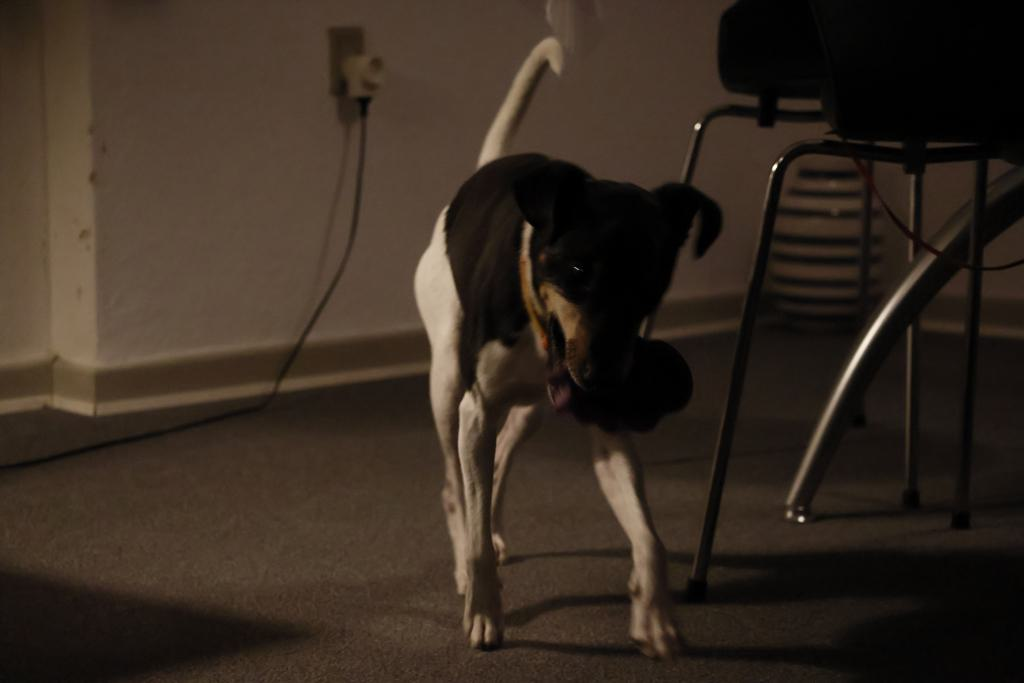Dog: (396, 27, 730, 667)
